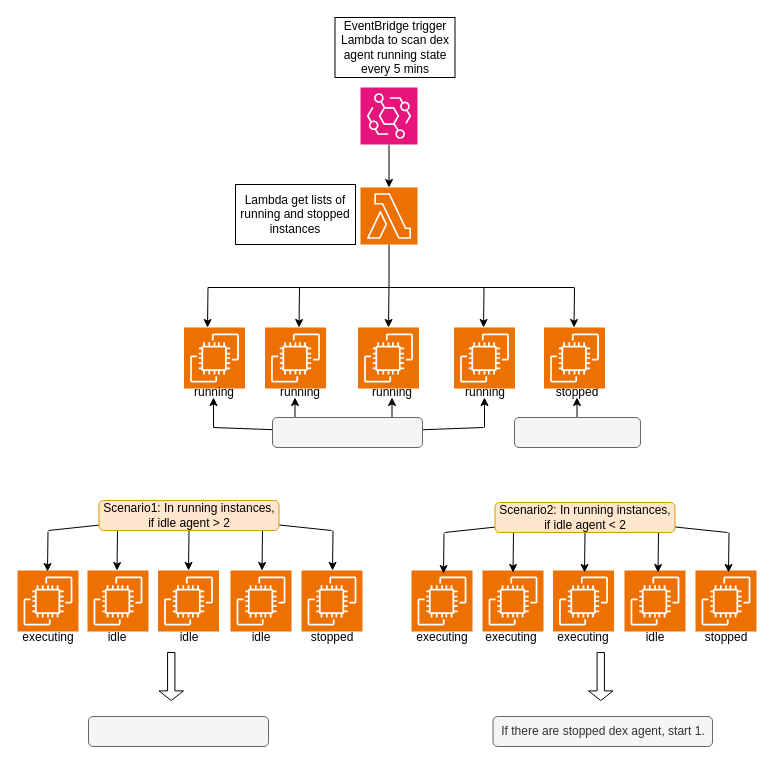
Some shapes in this 774 by 764 pixel diagram are drawn without their labels. Here are the shapes that lost their labels. From the top down, the box of each, then its label:
(272, 416, 422, 448): running instance list
(514, 416, 640, 448): stopped instance list
(88, 716, 268, 746): Stop 1 idle dex agent
